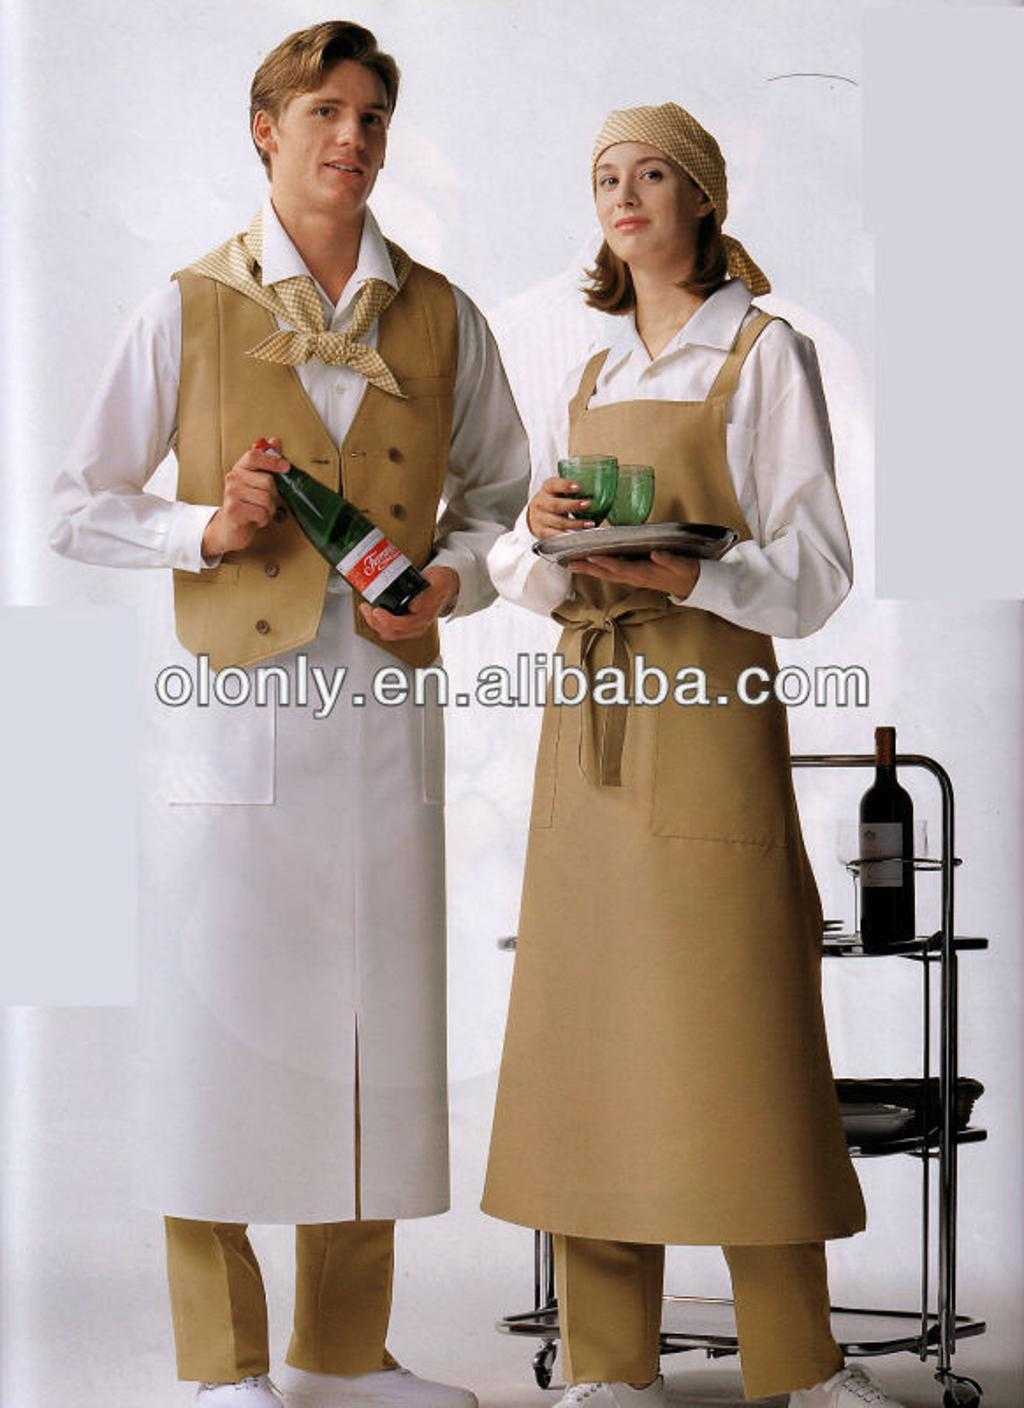face: (270, 52, 388, 209), (592, 129, 699, 269)
